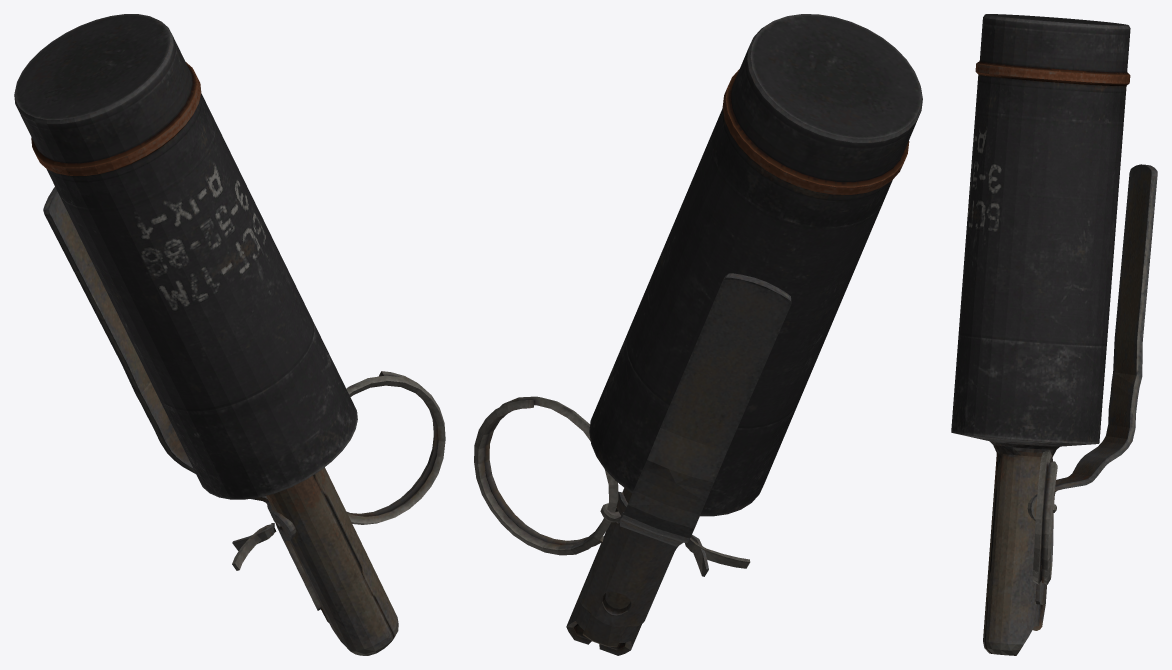
The picture shows the model from 3 angles, left to right: view 1: azimuth 30°, elevation 25°; view 2: azimuth 150°, elevation 25°; view 3: azimuth 270°, elevation 25°; orthographic projection. The views are drawn at different scales.
Parts seen in each view (by area): view 1: TW_5e32f56fcb6d5863cc5e5ee4_PZ_Import; view 2: TW_5e32f56fcb6d5863cc5e5ee4_PZ_Import; view 3: TW_5e32f56fcb6d5863cc5e5ee4_PZ_Import.
Boxes of the visible parts, <box> form: TW_5e32f56fcb6d5863cc5e5ee4_PZ_Import: <box>14,14,445,655</box>; TW_5e32f56fcb6d5863cc5e5ee4_PZ_Import: <box>474,14,922,655</box>; TW_5e32f56fcb6d5863cc5e5ee4_PZ_Import: <box>951,14,1157,655</box>.
Bounding box in the file's own units: 0.0484 × 0.0245 × 0.0735.
Materials: 1 (1 with a texture image).
